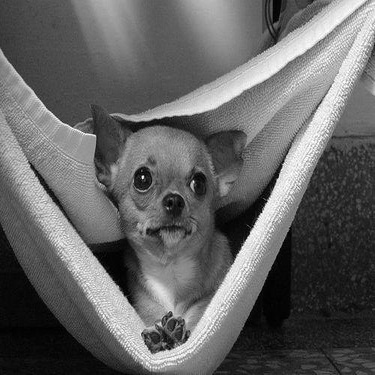dog: (51, 91, 259, 366)
